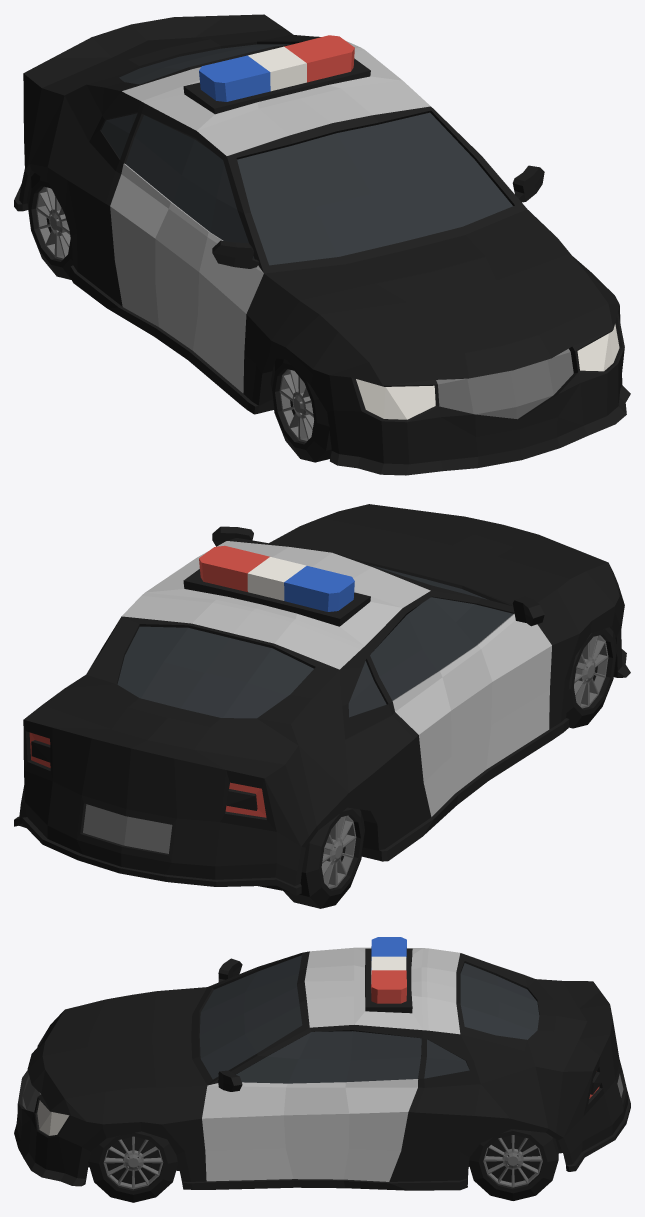
File: cop.gltf
3 renders of one model, top to bottom at view 1: azimuth 30°, elevation 25°; view 2: azimuth 150°, elevation 25°; view 3: azimuth 270°, elevation 25°, orthographic. The views are drawn at different scales.
Visible parts, largest first — view 1: Body, Wheel_FR, Wheel_RR; view 2: Body, Wheel_RR, Wheel_FR; view 3: Body, Wheel_RL, Wheel_FL.
Boxes of the visible parts, x1=… form: Body: x1=14, y1=14, x2=630, y2=475; Wheel_FR: x1=270, y1=358, x2=331, y2=462; Wheel_RR: x1=27, y1=173, x2=73, y2=279; Body: x1=14, y1=504, x2=630, y2=895; Wheel_RR: x1=283, y1=807, x2=364, y2=908; Wheel_FR: x1=566, y1=627, x2=617, y2=728; Body: x1=14, y1=937, x2=630, y2=1190; Wheel_RL: x1=469, y1=1129, x2=558, y2=1200; Wheel_FL: x1=88, y1=1131, x2=178, y2=1202.
Size of the model in its own units: 1.78 by 1.24 by 3.73.
